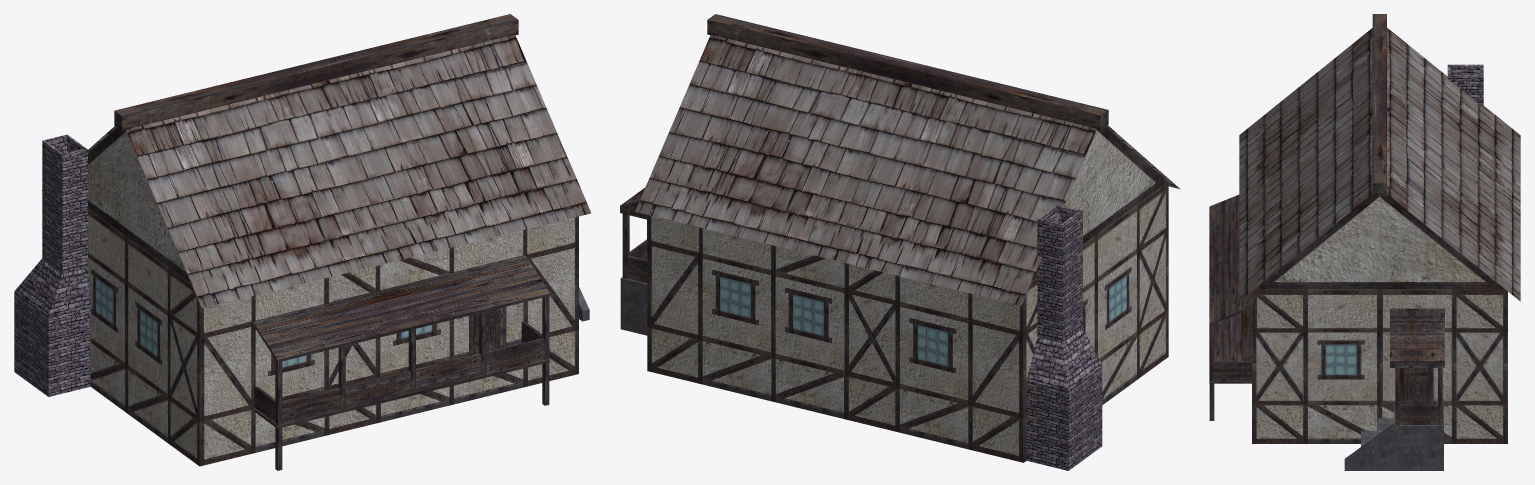
Rendered from MedievalHouse_003.dae.
3 renders of one model, left to right at view 1: azimuth 30°, elevation 25°; view 2: azimuth 150°, elevation 25°; view 3: azimuth 270°, elevation 25°, orthographic. The views are drawn at different scales.
Visible parts, largest first — view 1: MedievalHouse_003; view 2: MedievalHouse_003; view 3: MedievalHouse_003.
Part boxes in pixels (x1,y1,x2,y2): MedievalHouse_003: (14, 14, 590, 470); MedievalHouse_003: (620, 14, 1180, 470); MedievalHouse_003: (1209, 14, 1520, 470).
Bounding box in the file's own units: 69 × 43.8 × 41.
